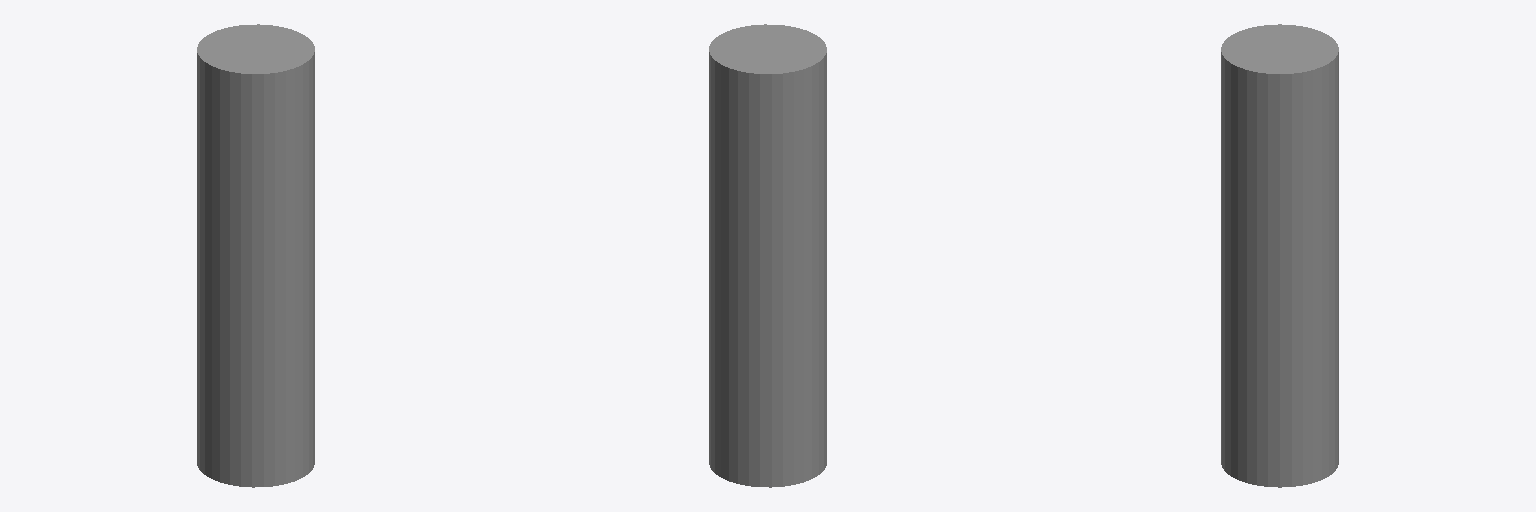
Rendered from turm3.obj.
The picture shows the model from 3 angles: view 1: azimuth 30°, elevation 25°; view 2: azimuth 150°, elevation 25°; view 3: azimuth 270°, elevation 25°; orthographic projection.
Parts seen in each view (by area): view 1: Cylinder; view 2: Cylinder; view 3: Cylinder.
Boxes of the visible parts, x1,y1,x2,y2 form: Cylinder: [197, 24, 314, 487]; Cylinder: [709, 24, 826, 487]; Cylinder: [1221, 24, 1338, 487].
Size of the model in its own units: 2 by 7.72 by 2.